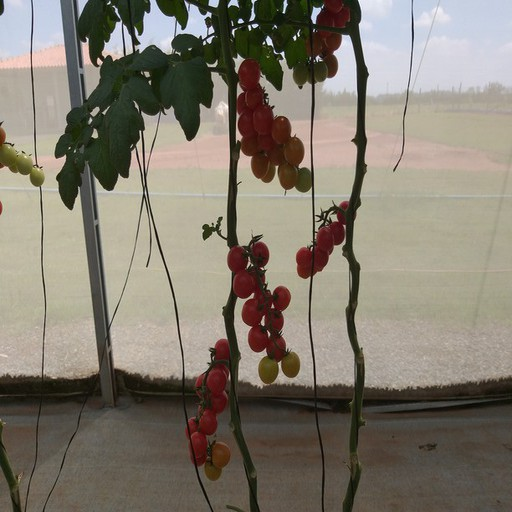green tomato bunch: (1, 132, 45, 189)
red tomato bunch: (235, 60, 311, 189), (227, 240, 295, 356), (187, 338, 236, 480), (295, 201, 356, 279), (294, 1, 349, 84)
